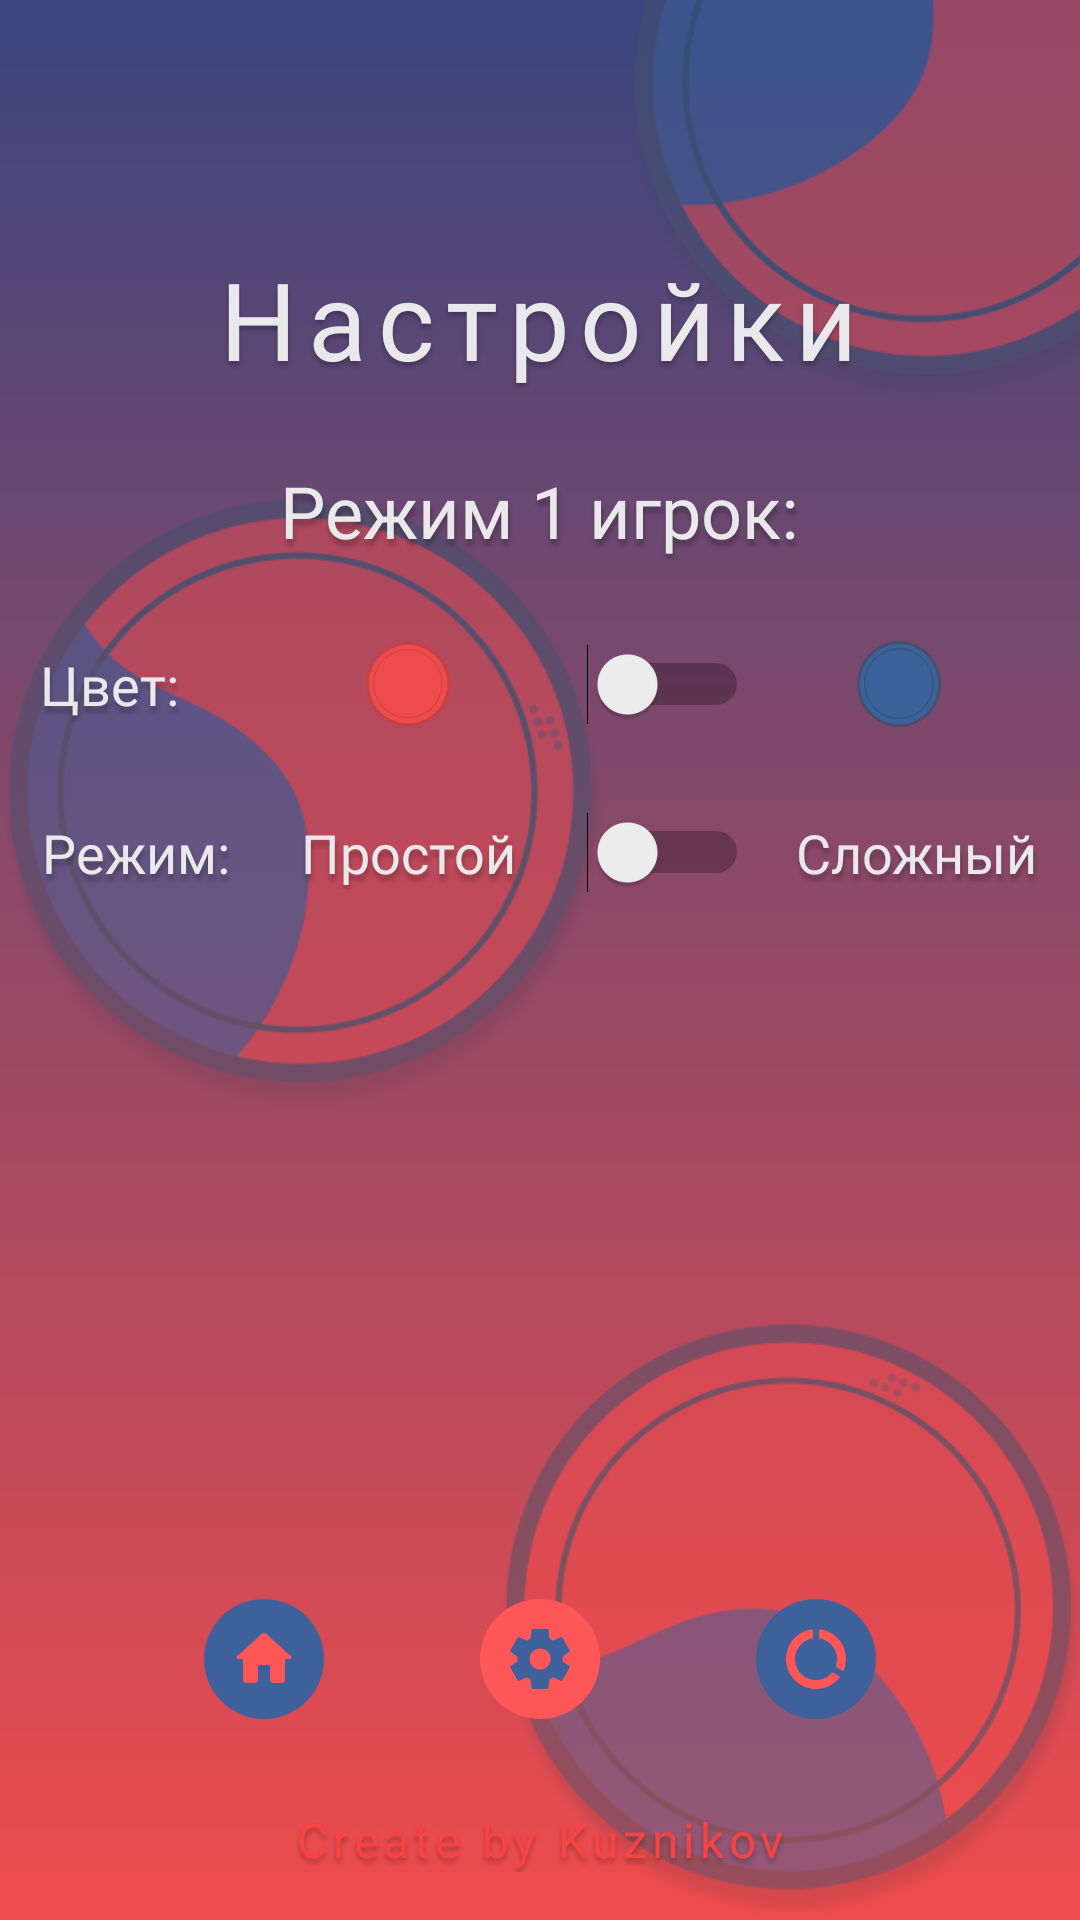

Icons on this 1080x1920 Android screen, each with the point to tap as (x=x, y=y):
settings: (x=540, y=1659)
stats: (x=816, y=1659)
